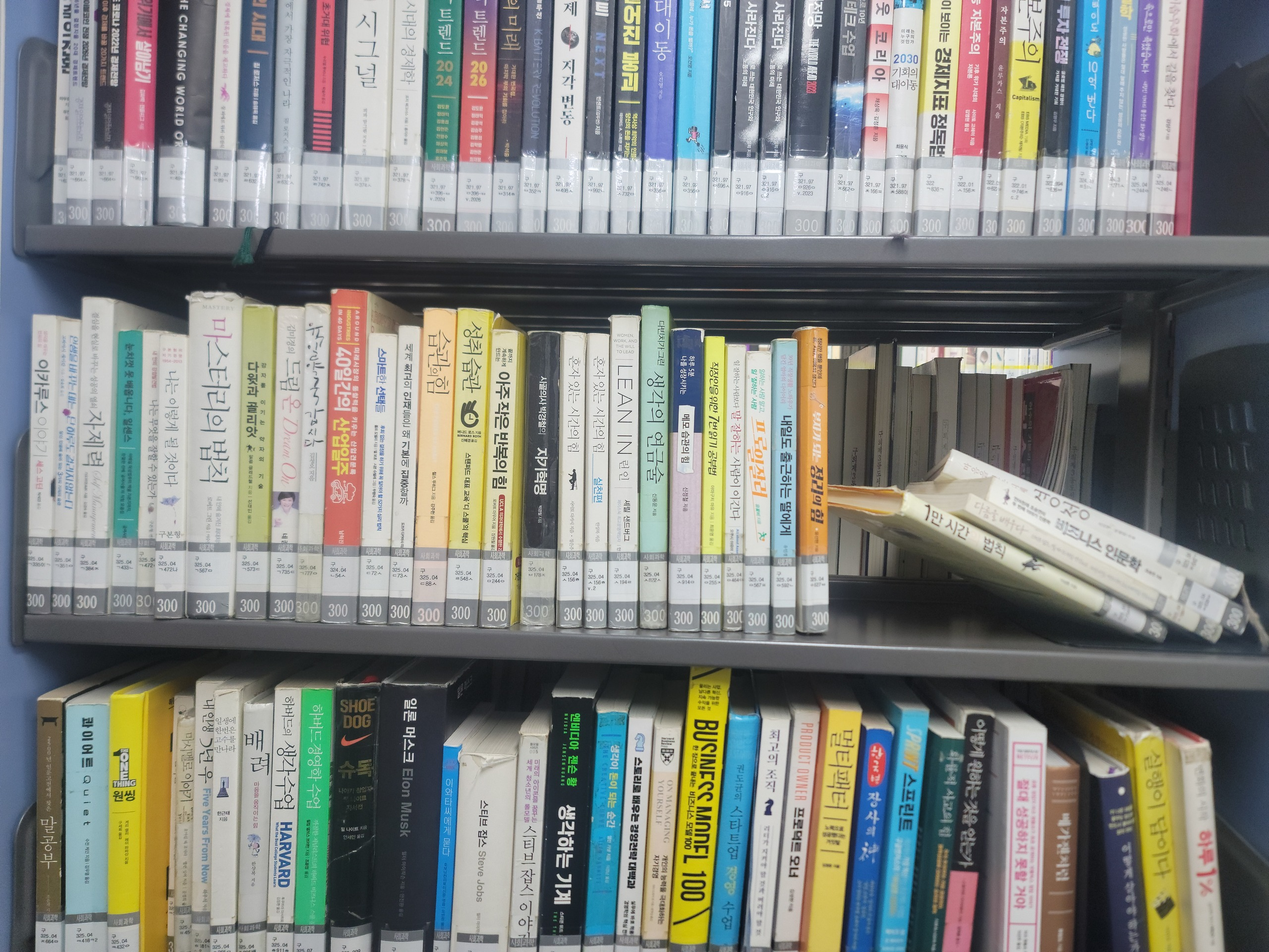book-spine: (943, 444, 1247, 599), (898, 489, 1170, 646), (982, 479, 1251, 636), (963, 490, 1223, 646), (184, 293, 242, 619), (320, 290, 369, 623), (443, 308, 491, 626), (411, 308, 457, 626), (72, 297, 115, 615), (233, 306, 274, 620), (518, 332, 561, 626), (478, 329, 519, 628), (266, 306, 304, 621), (356, 333, 397, 624), (294, 304, 330, 622), (669, 329, 704, 631), (386, 325, 421, 625), (154, 335, 188, 619), (25, 315, 57, 614), (609, 313, 639, 630), (640, 305, 669, 630), (49, 321, 81, 613), (109, 332, 142, 614), (556, 332, 587, 628), (743, 351, 772, 634), (584, 333, 611, 628), (134, 332, 161, 616), (804, 327, 828, 636), (701, 337, 725, 631), (774, 339, 797, 635), (723, 345, 745, 632)
